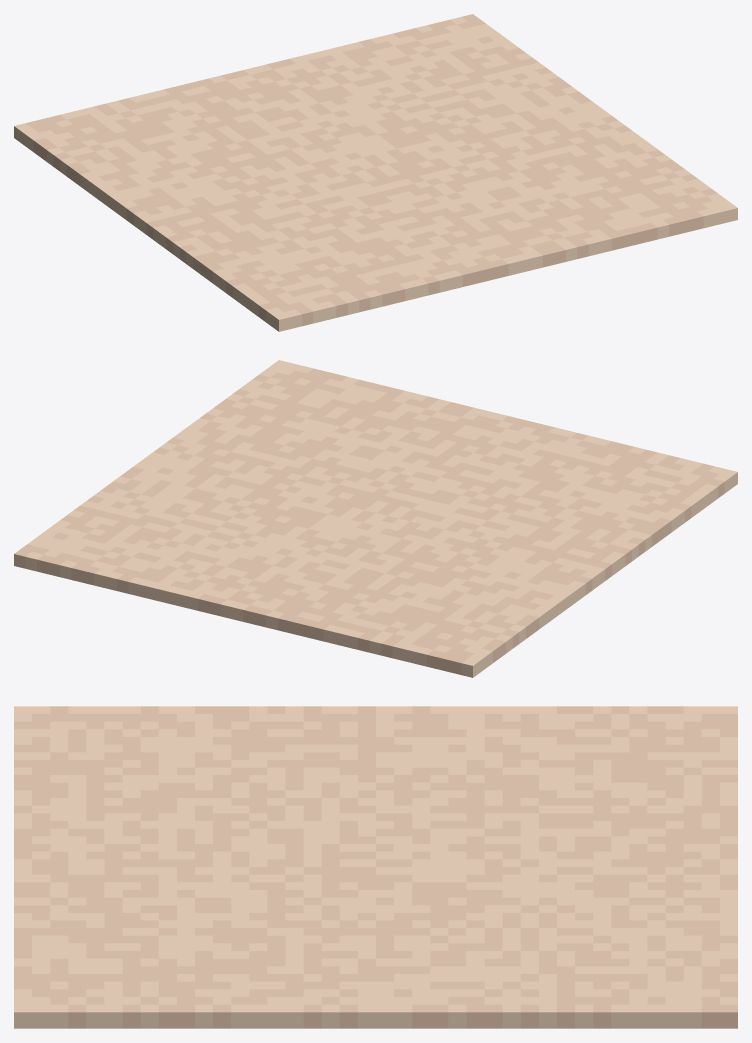
File: floor_02_S.glb
3 views of the same model, one above another, from view 1: azimuth 30°, elevation 25°; view 2: azimuth 150°, elevation 25°; view 3: azimuth 270°, elevation 25° (orthographic). The views are drawn at different scales.
Visible parts, largest first — view 1: Untitled; view 2: Untitled; view 3: Untitled.
Boxes of the visible parts, x1,y1,x2,y2 form: Untitled: (14,14,737,331); Untitled: (14,360,737,677); Untitled: (14,706,737,1028).
Bounding box in the file's own units: 1.2 × 0.03 × 1.2.
Materials: 1 (1 with a texture image).
